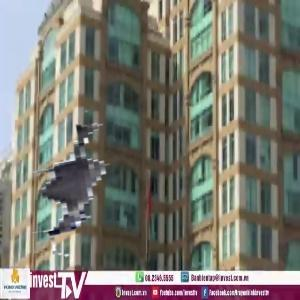drone: (6, 86, 188, 268)
